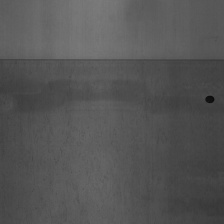punching_hole: (0, 51, 223, 70), (204, 93, 215, 107)
